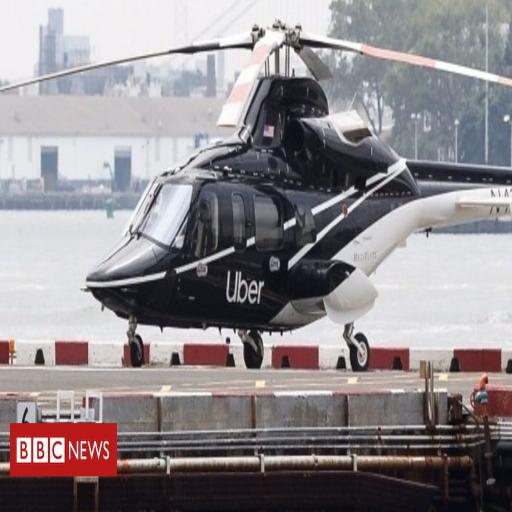helicopter: (77, 8, 512, 374)
